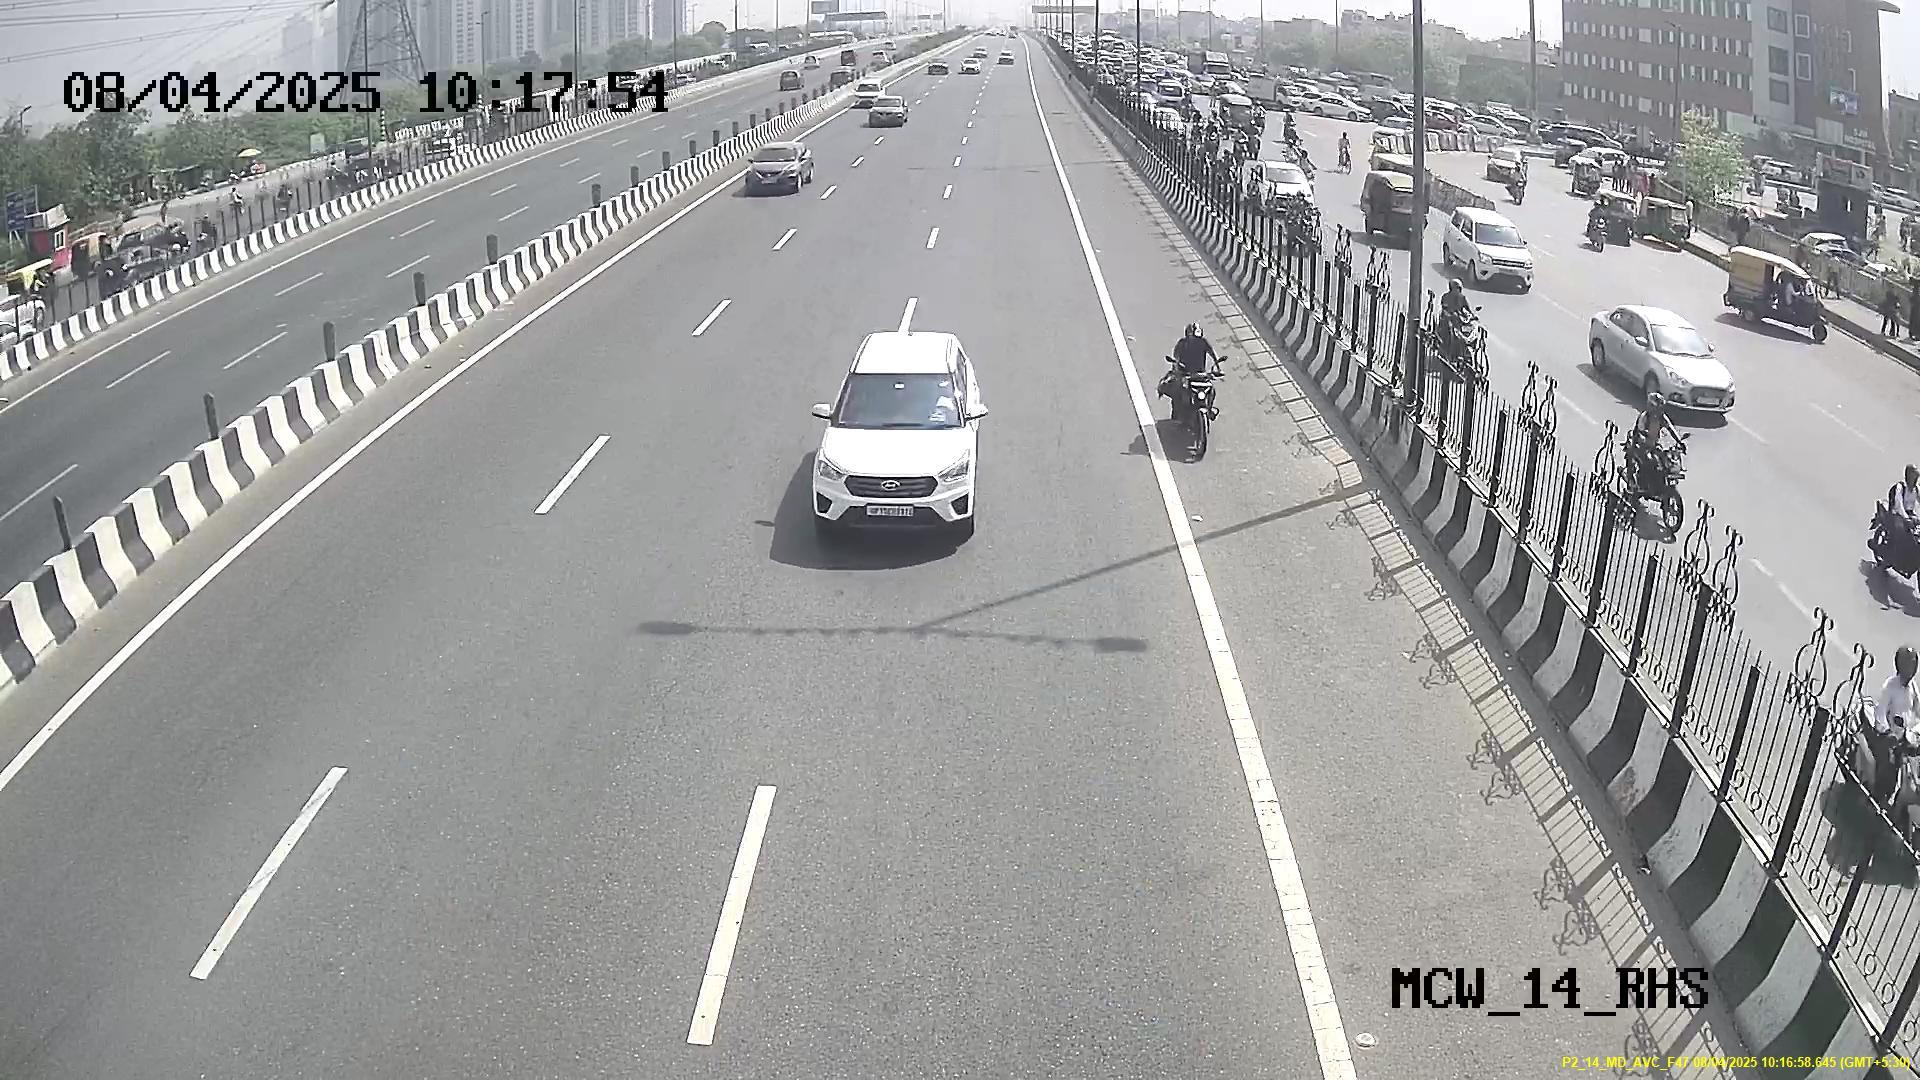bike: (1143, 318, 1228, 456)
car: (808, 356, 986, 542)
